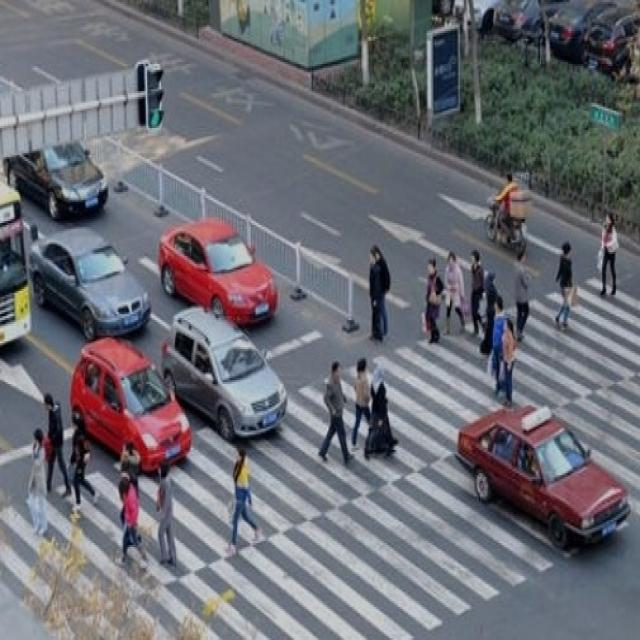non-fight: (226, 450, 263, 550), (321, 363, 352, 468), (44, 392, 73, 504), (68, 415, 99, 514), (116, 437, 144, 542), (116, 473, 146, 563), (366, 368, 396, 454), (30, 427, 53, 538), (351, 359, 375, 457), (154, 456, 174, 569), (446, 252, 468, 336), (598, 209, 618, 297), (554, 238, 572, 330), (367, 250, 385, 342), (425, 258, 444, 345), (500, 315, 516, 407), (470, 251, 486, 339), (491, 296, 506, 388), (514, 246, 529, 337)
